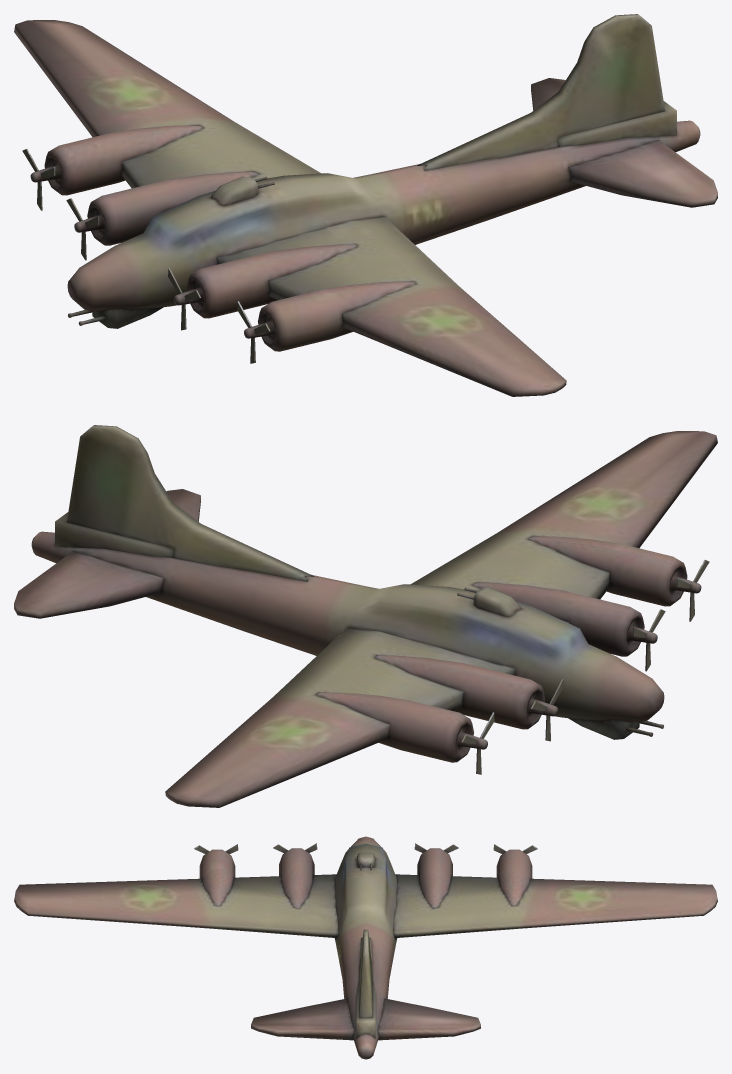
The model's file is Bomber.glb.
3 renders of one model, top to bottom at view 1: azimuth 30°, elevation 25°; view 2: azimuth 150°, elevation 25°; view 3: azimuth 270°, elevation 25°, orthographic. The views are drawn at different scales.
Visible parts, largest first — view 1: Cylinder; view 2: Cylinder; view 3: Cylinder.
Boxes of the visible parts, x1=… form: Cylinder: x1=14, y1=14, x2=717, y2=396; Cylinder: x1=14, y1=425, x2=717, y2=807; Cylinder: x1=14, y1=836, x2=717, y2=1059.
Size of the model in its own units: 2.6 by 0.7205 by 3.64.
1 material, 1 textured.
